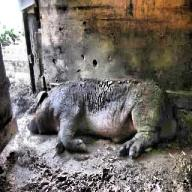boar: (26, 77, 178, 159)
